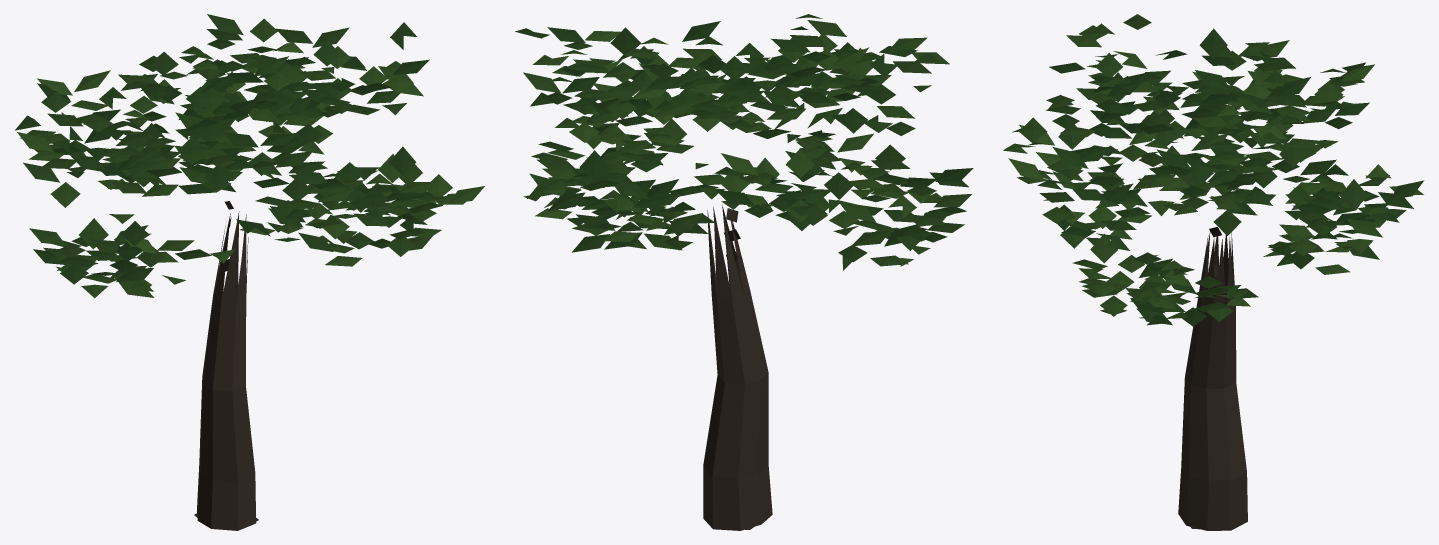
Rendered from broadleaf_tree_far.glb.
3 views of the same model, side by side, from view 1: azimuth 30°, elevation 25°; view 2: azimuth 150°, elevation 25°; view 3: azimuth 270°, elevation 25° (orthographic). The views are drawn at different scales.
Parts seen in each view (by area): view 1: broadleaf_tree_far; view 2: broadleaf_tree_far; view 3: broadleaf_tree_far.
Part boxes in pixels (<box>): broadleaf_tree_far: <box>15,14,484,530</box>; broadleaf_tree_far: <box>515,14,973,530</box>; broadleaf_tree_far: <box>1003,14,1424,530</box>.
Bounding box in the file's own units: 4.18 × 4.69 × 3.89.
